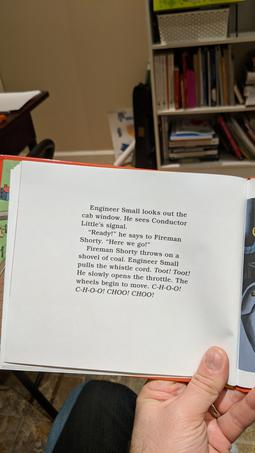text block: (69, 199, 197, 306)
